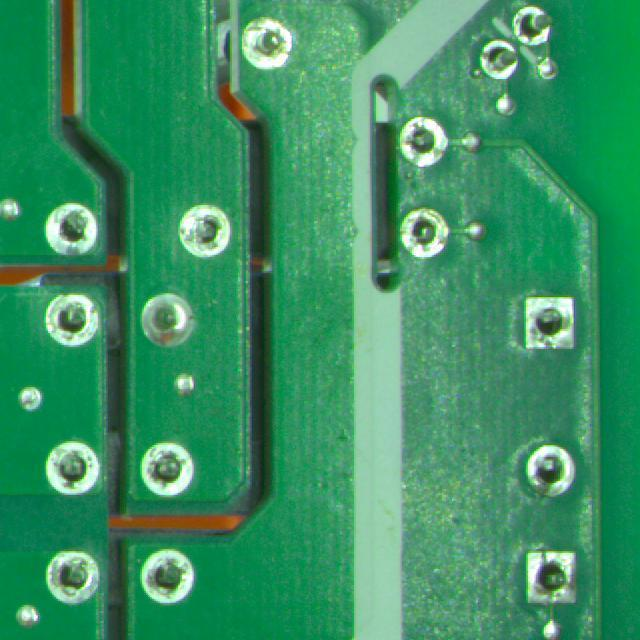Insufficient solder: (518, 286, 587, 360), (515, 543, 588, 612), (138, 435, 201, 503), (41, 546, 106, 611), (176, 198, 234, 267), (135, 545, 200, 606), (43, 437, 104, 501), (41, 201, 99, 262), (41, 287, 101, 345), (521, 438, 578, 498), (239, 15, 296, 71), (395, 115, 453, 170), (397, 208, 451, 260), (509, 5, 554, 49), (476, 40, 519, 80)
